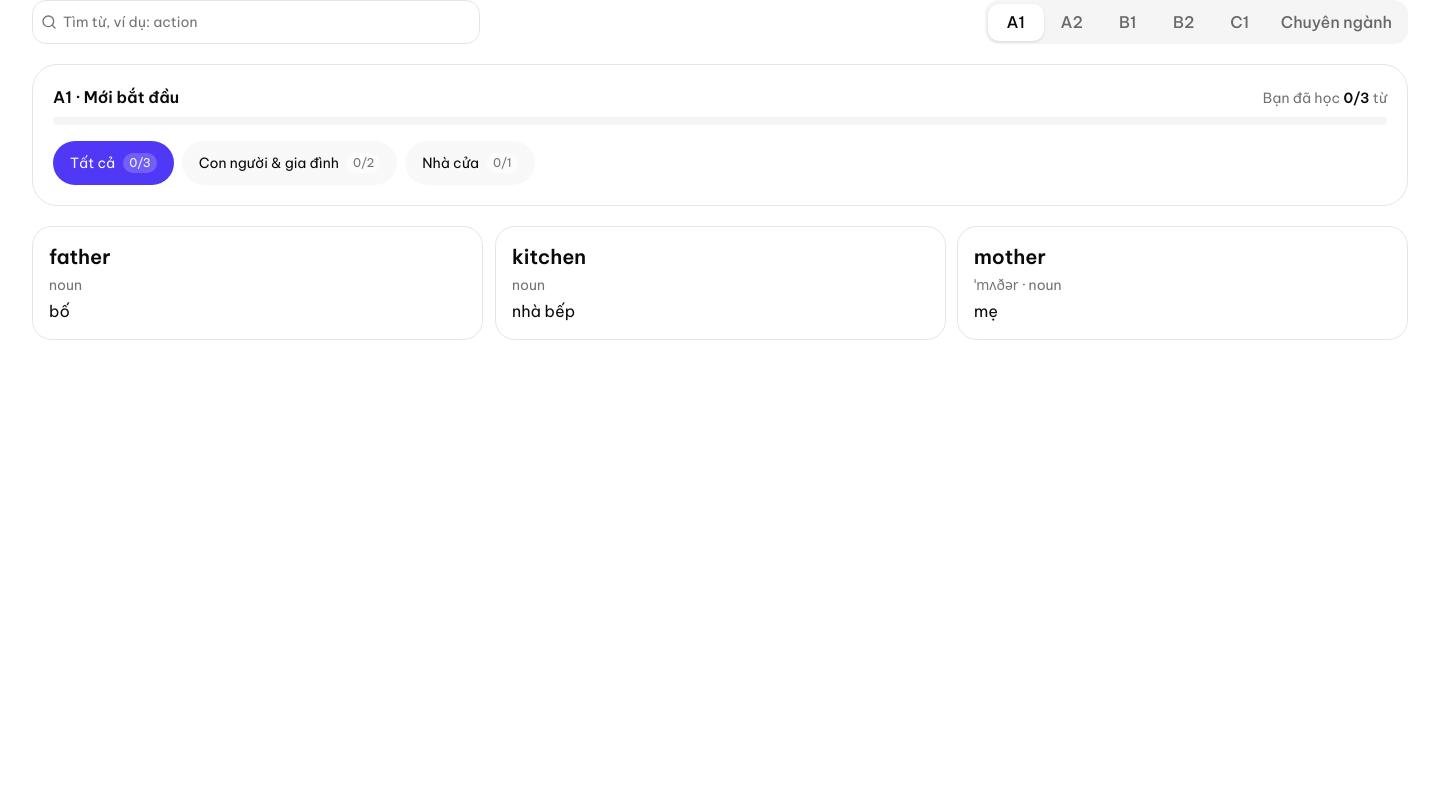
Test: VocabularyBrowser › search (feature 002) › suggests words from every level with level and meaning, and opens the chosen one (AC-001, AC-003, AC-004)
Expected: the element named "Danh sách từ" is shown, [32,226,1408,340]
Type "TRA" into the dropdown named "Tìm từ vựng ở mọi trình độ".
click(264, 22); type("TRA")  # box [57,6,471,38]
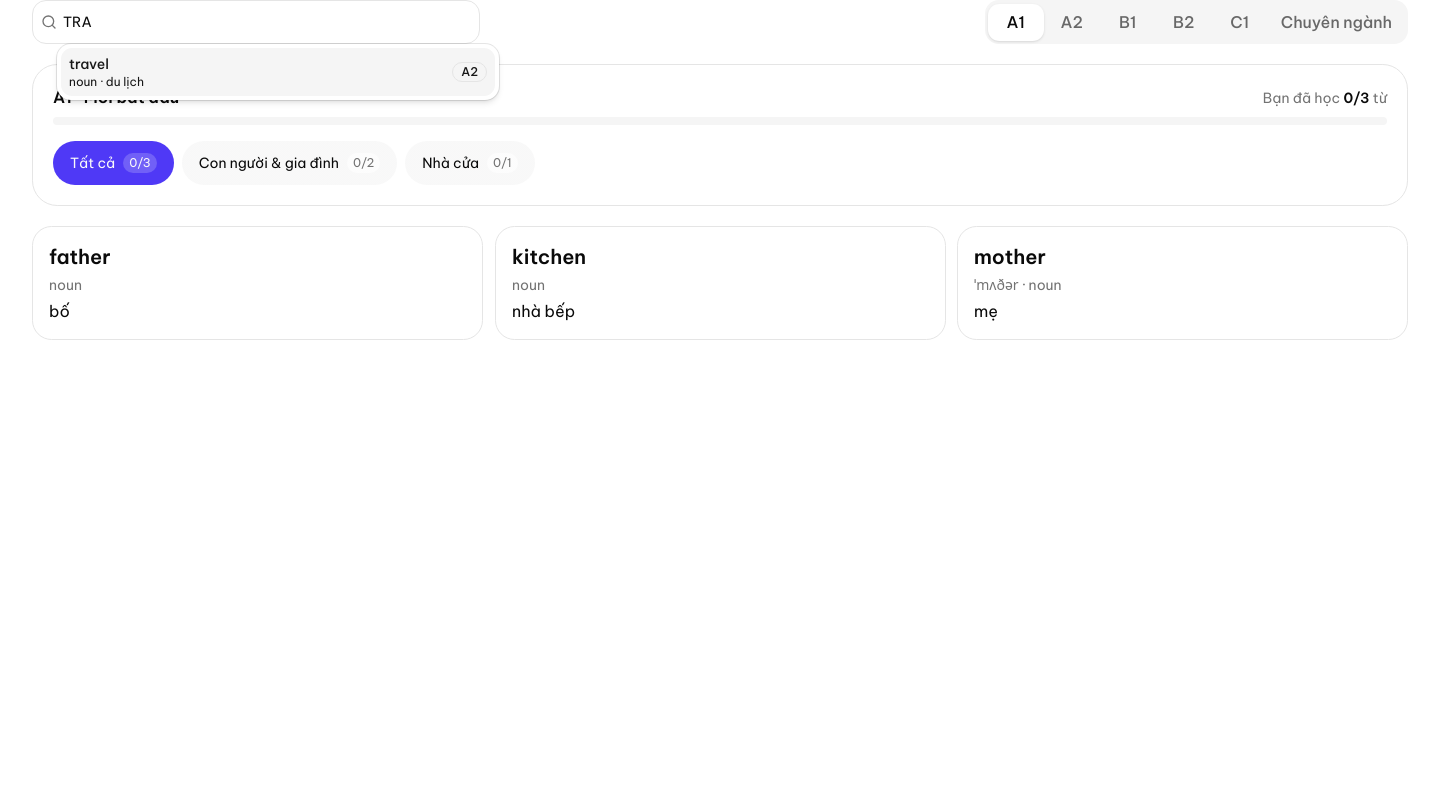
Expected: the icon "A2" is shown, [452,62,487,82]
Expected: the text "noun · du lịch" is shown, [69,74,144,89]
Expected: the number of options is 1
Click the option "travel noun · du lịch A2".
click(89, 64)  # box [61,48,495,96]
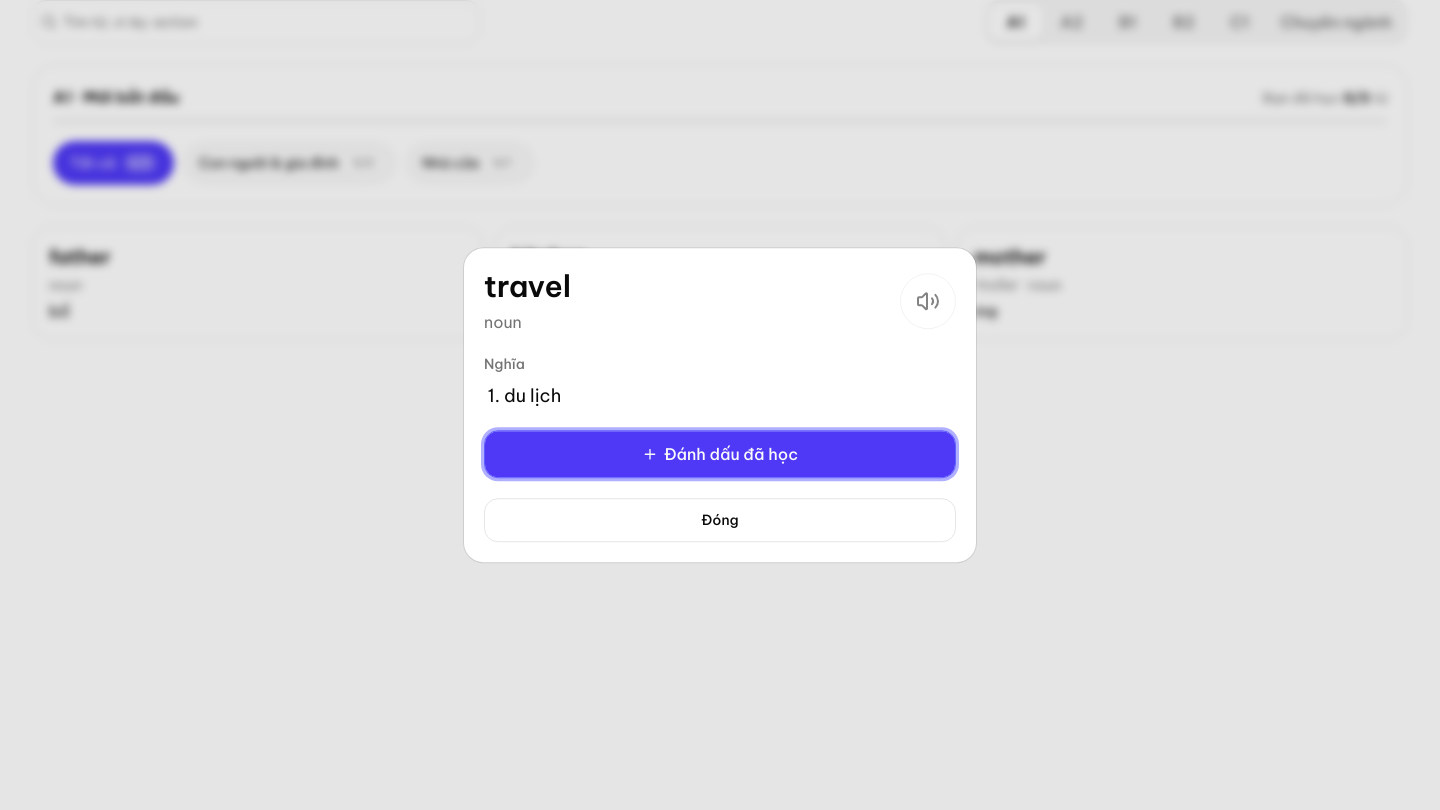
Expected: the dialog is shown, [464,248,976,562]
